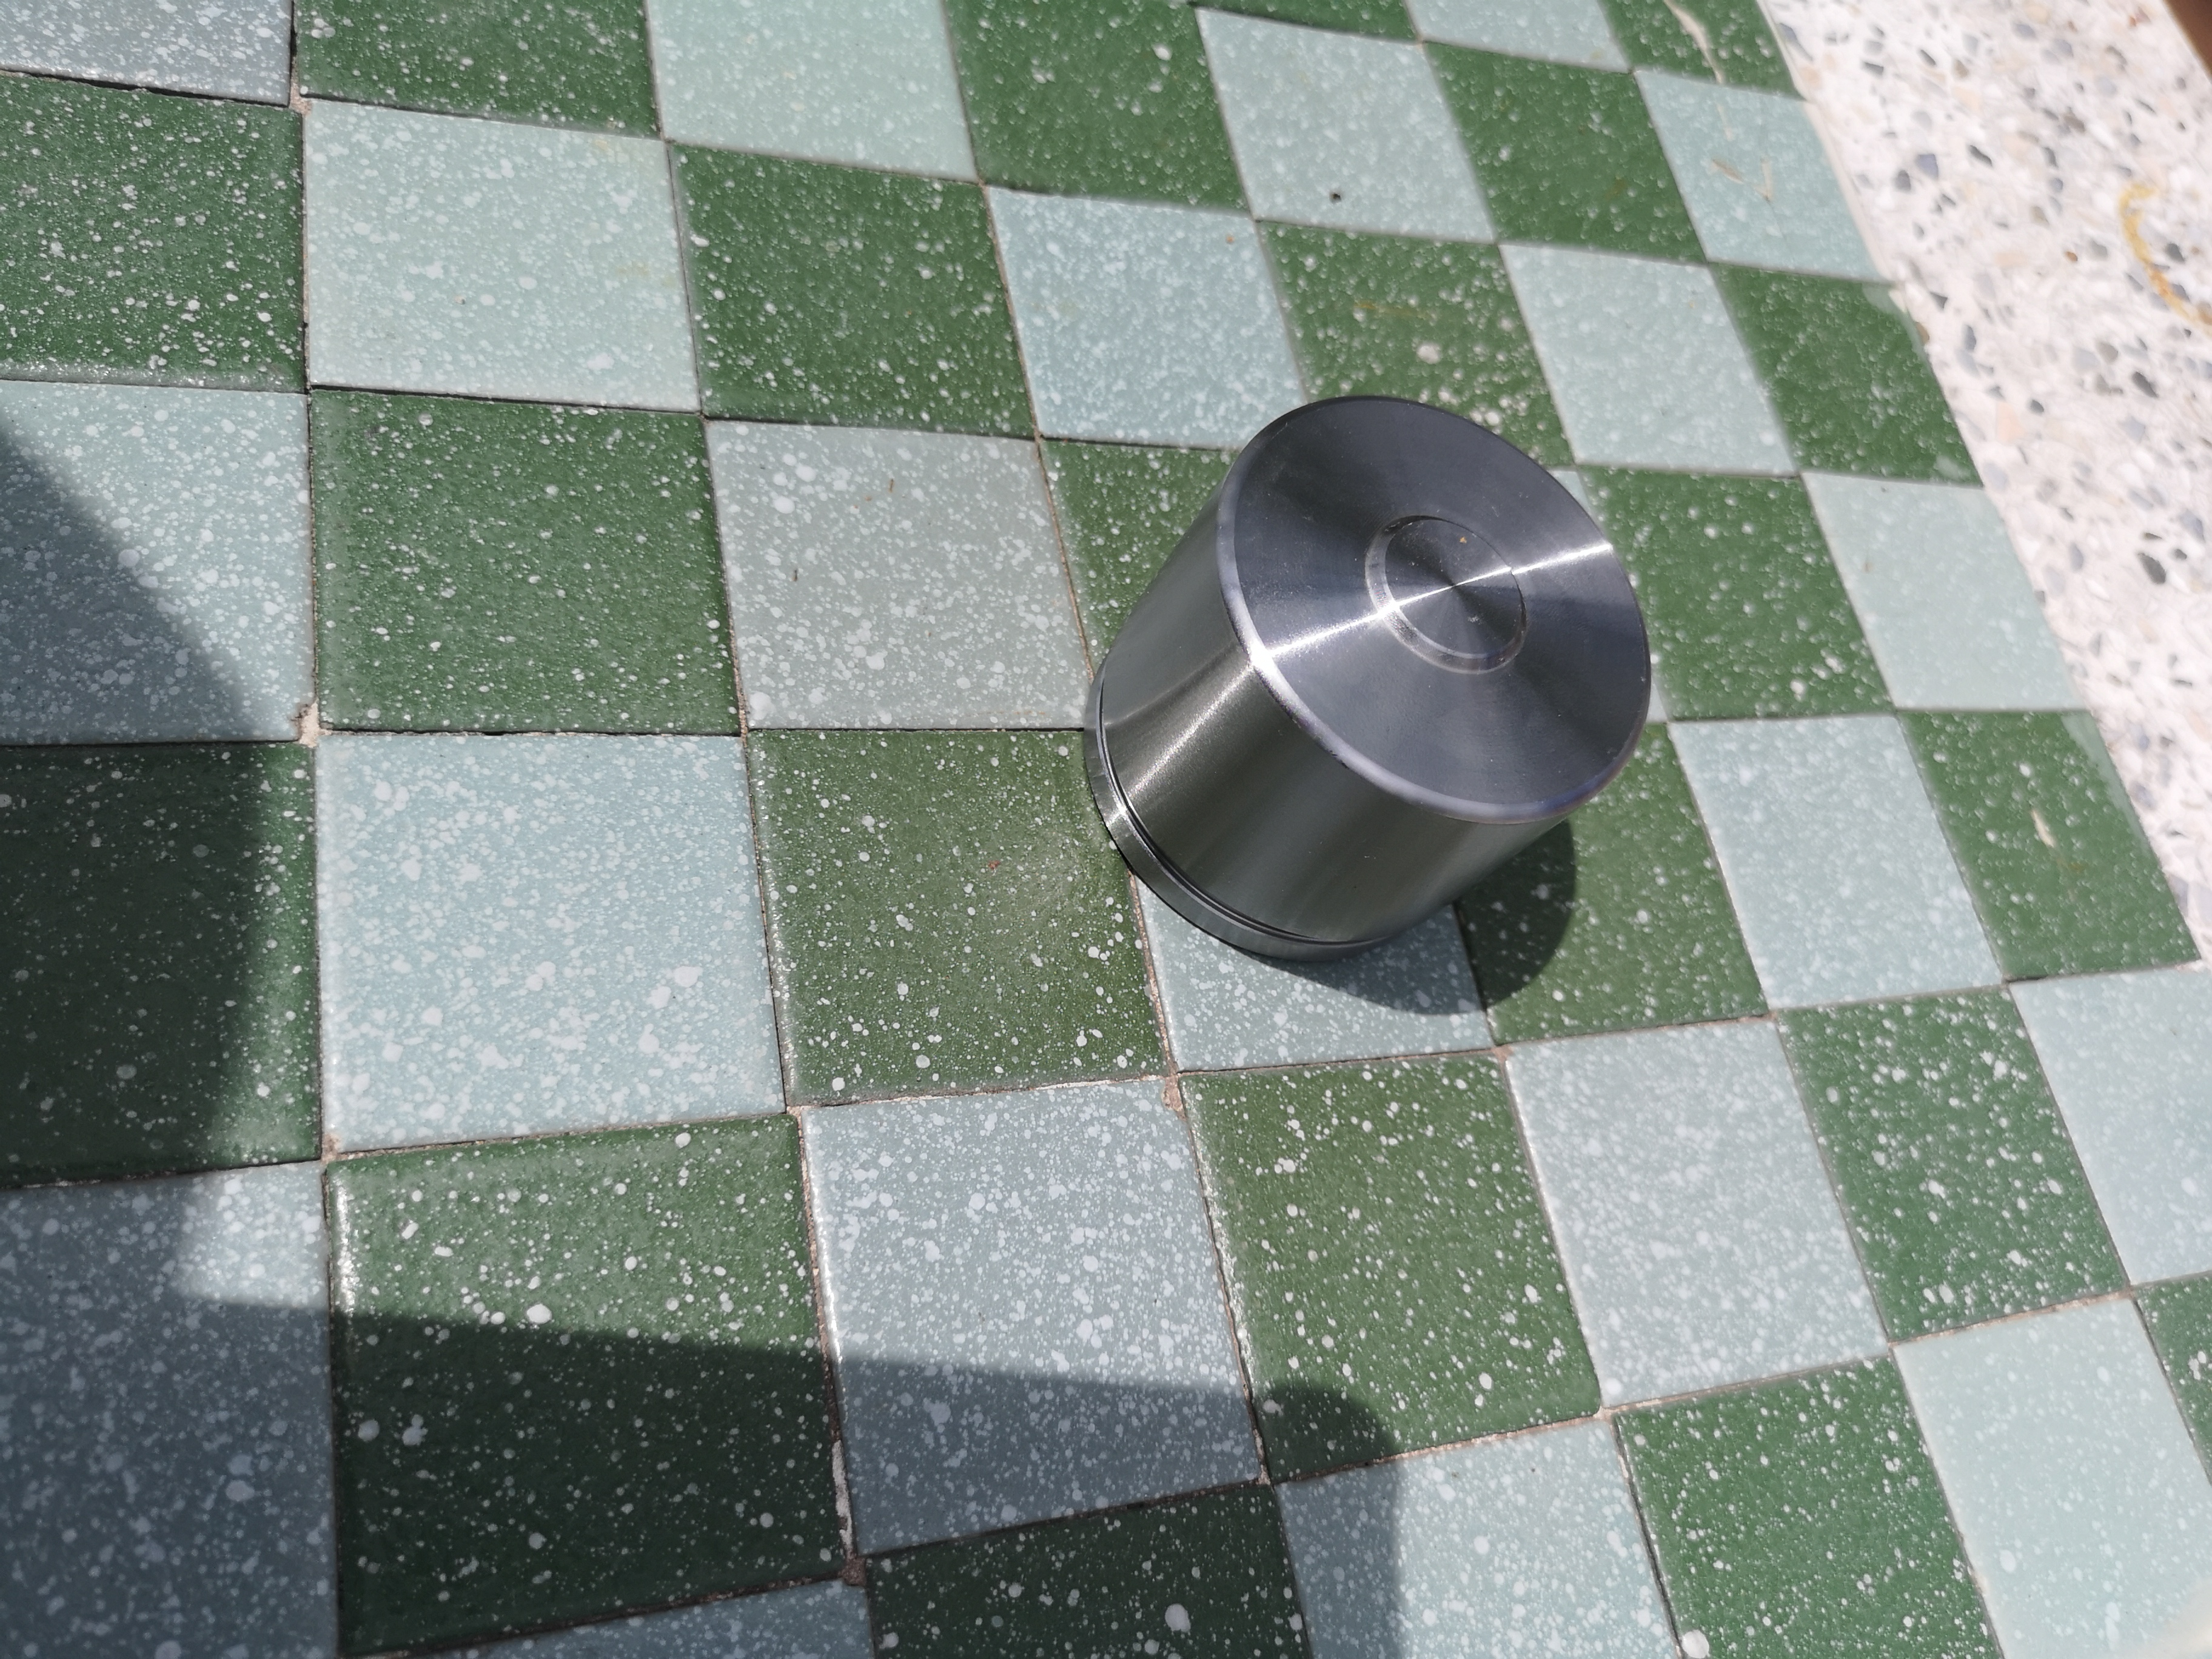ลูกสูบดิสเบรค: (1082, 364, 1707, 992)
